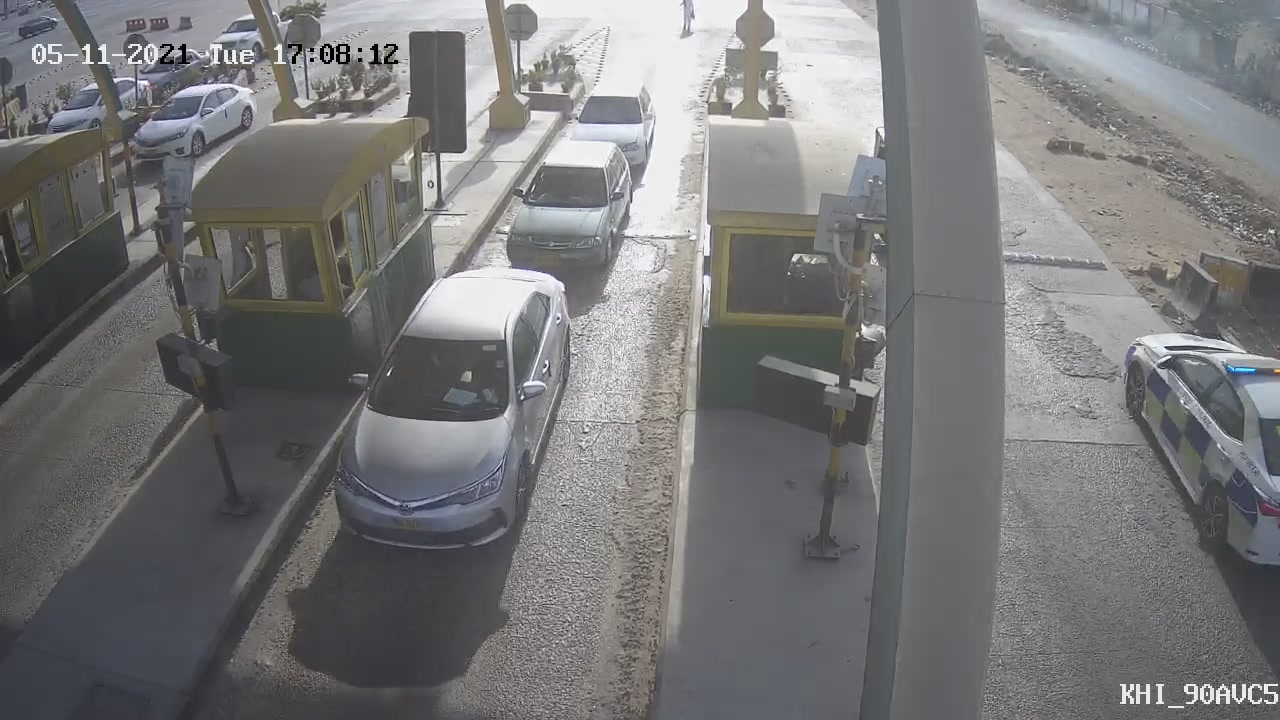F1: (313, 249, 596, 573), (492, 124, 652, 285)
